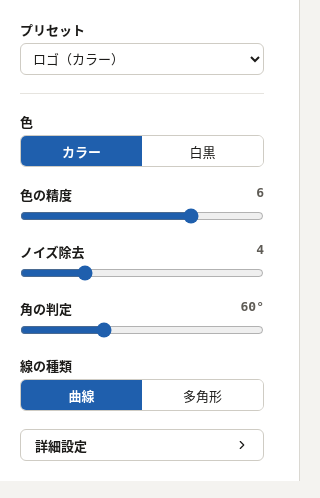
ParamsPanel › populates values when a preset is selected
Expected: the slider labelled "ノイズ除去 4" holds "4", [20,265,264,281]
// Select colorIcon preset
Select "イラスト（色数少なめ）" in the dropdown labelled "プリセット" at [142, 59], box [20,43,264,75]
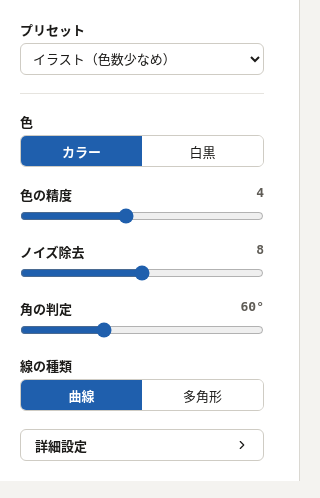
Result: the slider labelled "ノイズ除去 8" holds "8" at [20,265,264,281]
Result: the slider labelled "色の精度 4" holds "4" at [20,208,264,224]
